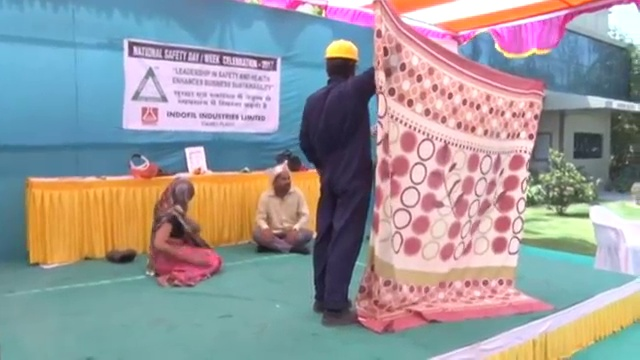helmet: (322, 38, 361, 61)
helmet_off: (166, 175, 199, 205), (269, 162, 293, 197)
helmet_on: (321, 36, 361, 84)
person: (302, 36, 375, 322), (145, 174, 219, 287), (251, 161, 311, 252)
